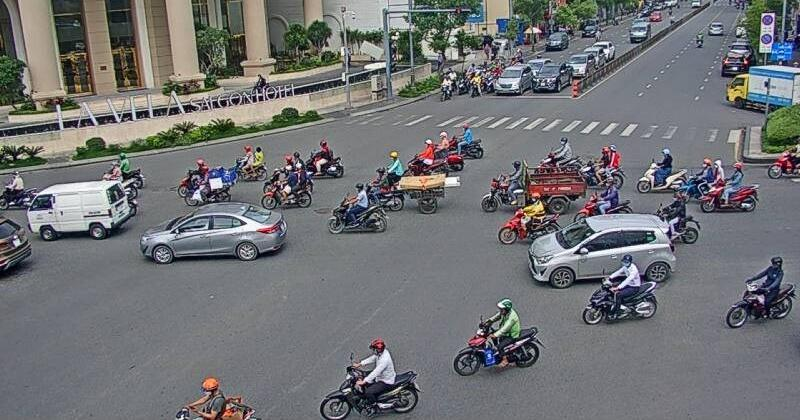xe hoi: (527, 215, 678, 286), (142, 201, 285, 264)
xe may: (319, 339, 419, 420), (452, 296, 539, 376), (722, 254, 800, 327), (579, 255, 659, 324), (497, 191, 558, 245), (327, 183, 387, 233), (700, 161, 757, 213), (571, 177, 632, 225), (635, 146, 687, 193), (260, 164, 310, 207), (578, 144, 625, 189), (360, 165, 403, 212), (401, 137, 449, 179), (533, 136, 581, 177), (184, 165, 233, 204), (303, 139, 345, 178), (226, 144, 267, 181), (446, 122, 484, 159)
xe van: (26, 180, 130, 239)
